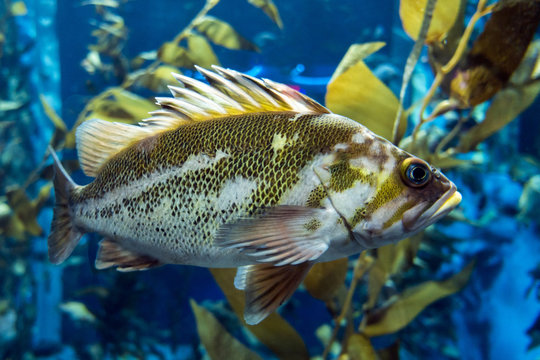Rock Fish: (24, 81, 459, 320)
